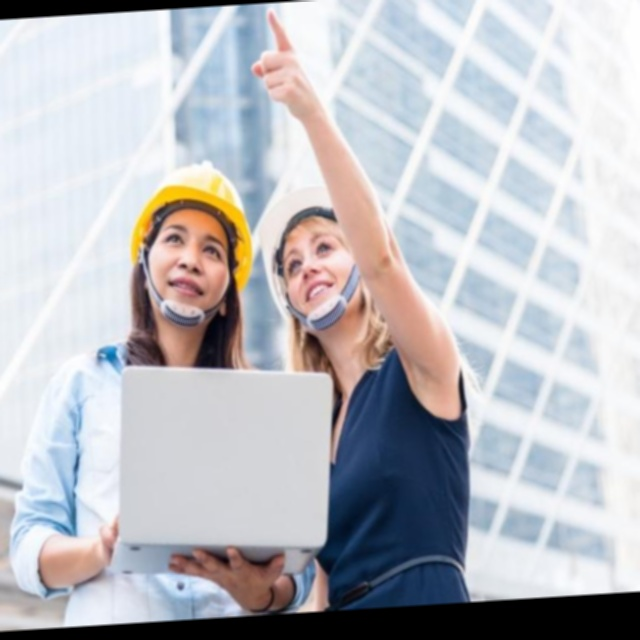Con_Casco: (131, 152, 258, 325)
